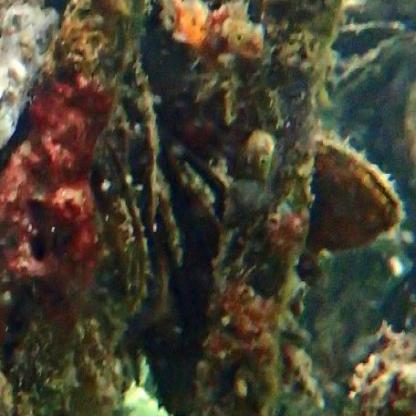Oyster- Indeterminate: (90, 132, 151, 361), (307, 141, 399, 255)
Oyster-Open: (162, 134, 231, 262)
